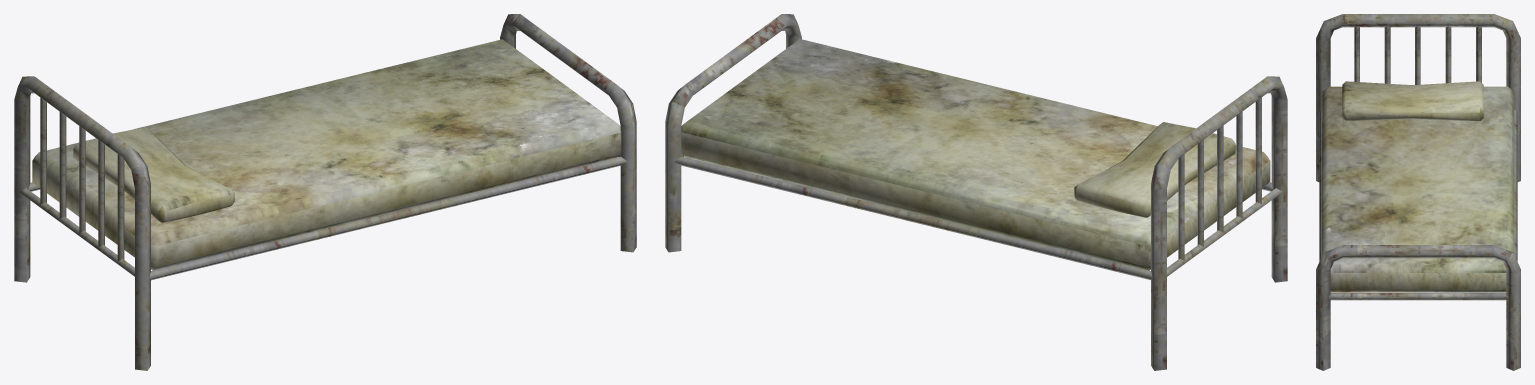
File: _Bed_1_2.FBX
3 renders of one model, left to right at view 1: azimuth 30°, elevation 25°; view 2: azimuth 150°, elevation 25°; view 3: azimuth 270°, elevation 25°, orthographic. The views are drawn at different scales.
Visible parts, largest first — view 1: _Bed_1_2; view 2: _Bed_1_2; view 3: _Bed_1_2.
Boxes of the visible parts, x1,y1,x2,y2 form: _Bed_1_2: [14, 14, 636, 370]; _Bed_1_2: [665, 14, 1287, 370]; _Bed_1_2: [1316, 14, 1520, 370].
Size of the model in its own units: 187 by 75.31 by 83.77.
Materials: 2 (2 with a texture image).
